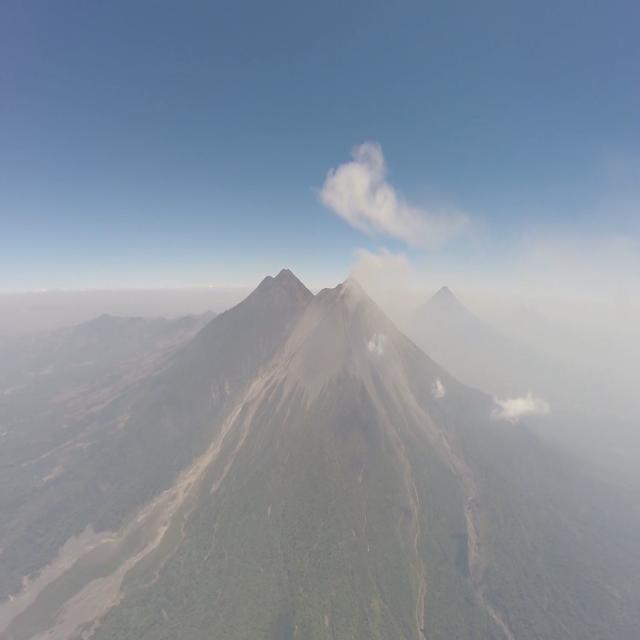Plume: (319, 130, 471, 254)
Summit: (342, 274, 363, 286)
